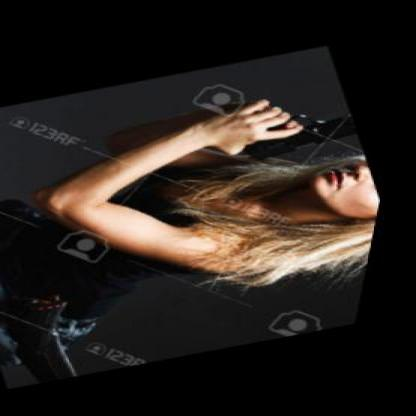pistol: (216, 83, 371, 170)
